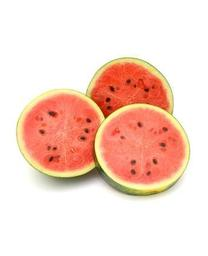watermelon: (16, 58, 190, 196)
